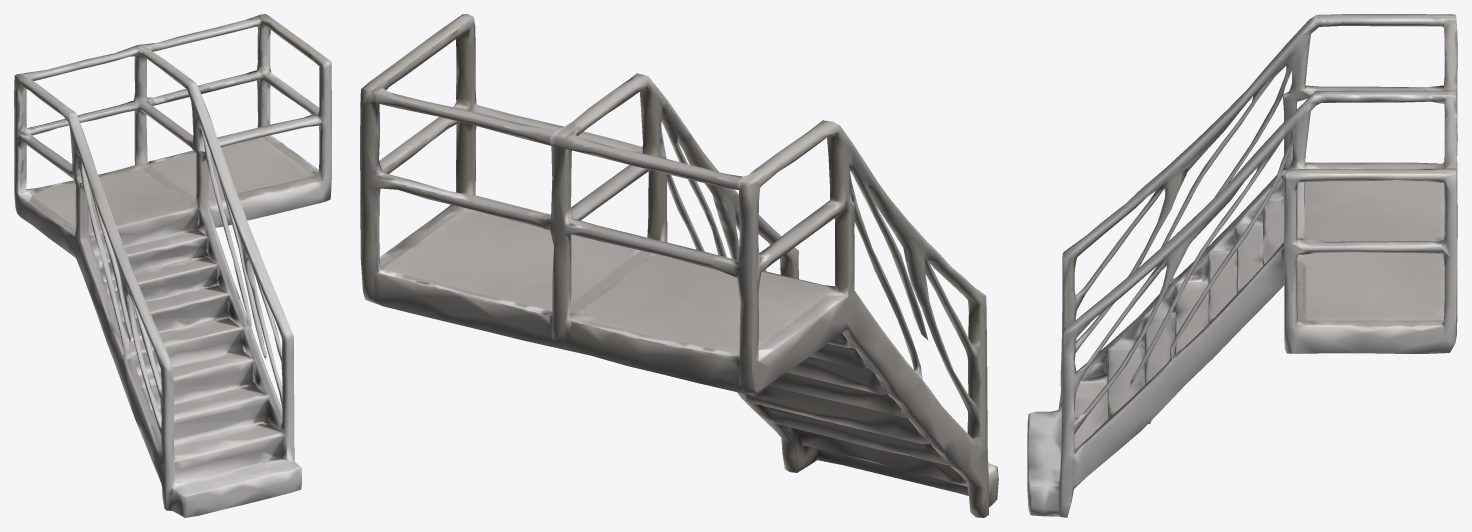
The model's file is whiteSTairs.glb.
3 renders of one model, left to right at view 1: azimuth 30°, elevation 25°; view 2: azimuth 150°, elevation 25°; view 3: azimuth 270°, elevation 25°, orthographic. The views are drawn at different scales.
Parts seen in each view (by area): view 1: input; view 2: input; view 3: input.
Part boxes in pixels (x1,y1,x2,y2): input: [14, 14, 331, 517]; input: [360, 14, 998, 517]; input: [1027, 14, 1457, 517].
Size of the model in its own units: 0.8136 by 0.9989 by 0.917.
1 material, 1 textured.
